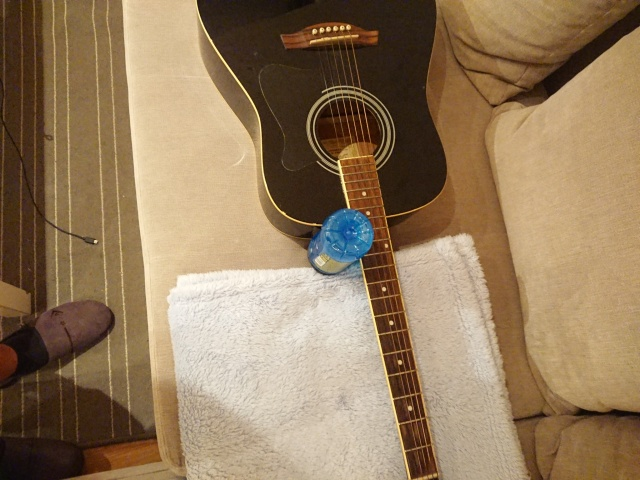Vindi Iso Sport Forest Strawberries 500mL: (305, 205, 376, 277)
